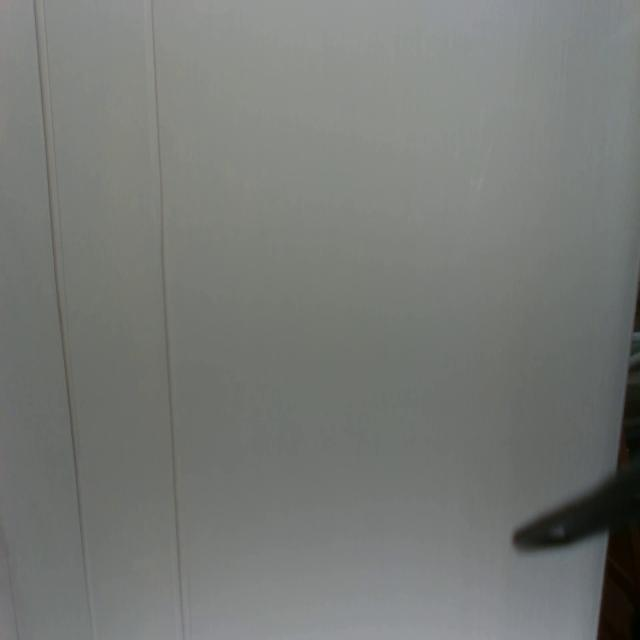crease: (32, 1, 97, 640), (144, 0, 193, 640), (3, 528, 21, 640)
